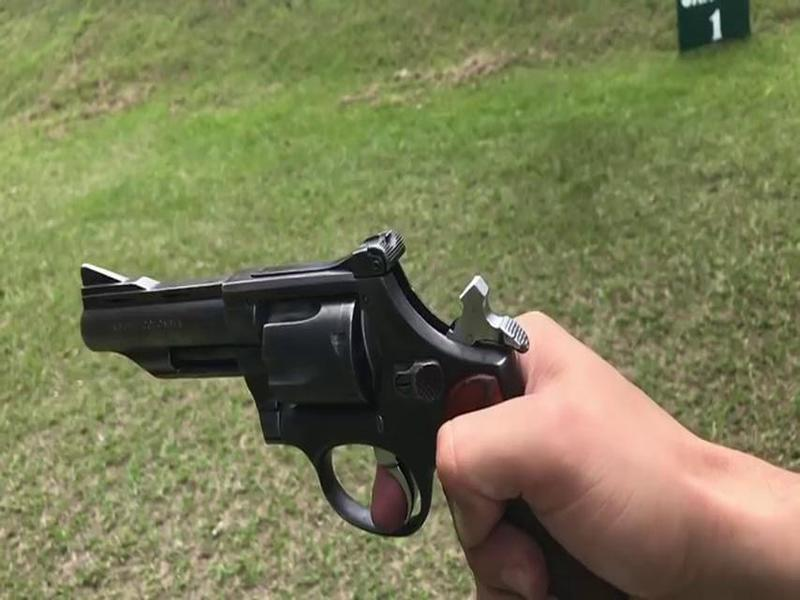Revolver: (70, 228, 569, 568)
